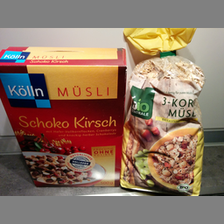cereal: (1, 46, 126, 186), (121, 27, 205, 197)
